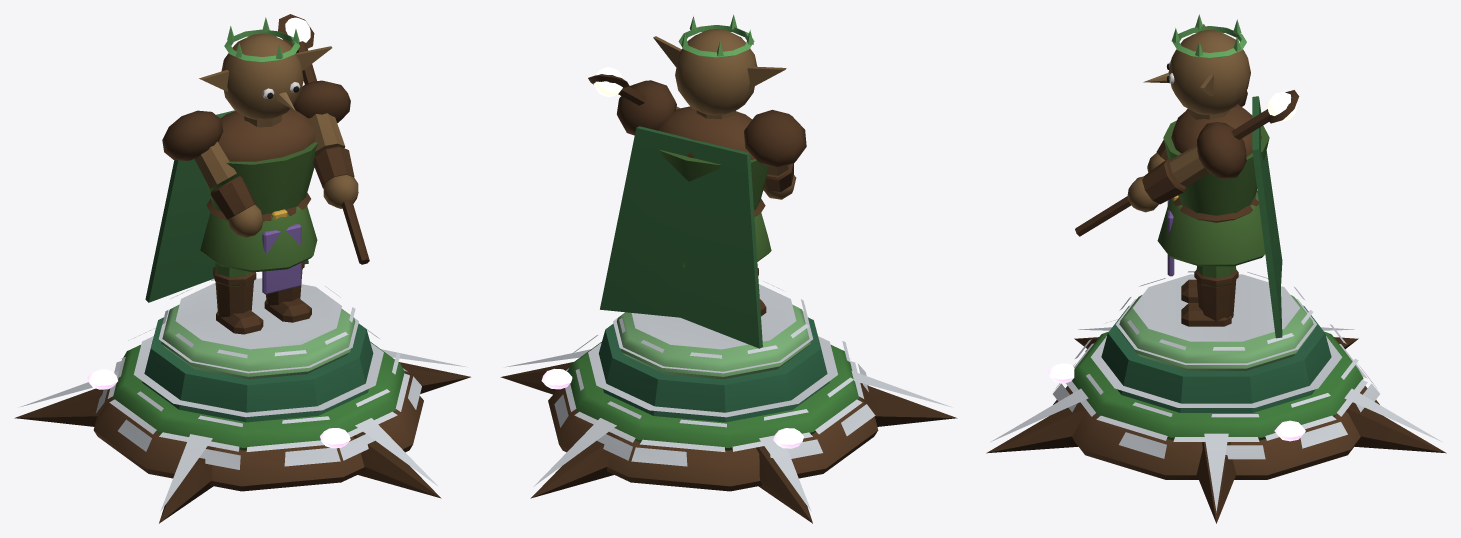
Rendered from sylvestres-7.glb.
The picture shows the model from 3 angles, left to right: view 1: azimuth 30°, elevation 25°; view 2: azimuth 150°, elevation 25°; view 3: azimuth 270°, elevation 25°; orthographic projection.
Parts seen in each view (by area): view 1: sylvestres_7_peint, Buste_peint, Crane_peint, BrasG_peint, BrasD_peint, JambeG_peint, Arme_peint, JambeD_peint, sylvestres_7_lueur; view 2: sylvestres_7_peint, Buste_peint, Crane_peint, BrasG_peint, BrasD_peint, sylvestres_7_lueur, Arme_peint; view 3: sylvestres_7_peint, Buste_peint, Crane_peint, BrasD_peint, JambeD_peint, Arme_peint, sylvestres_7_lueur.
Part boxes in pixels (x1=…): sylvestres_7_peint: x1=14, y1=278, x2=470, y2=523; Buste_peint: x1=145, y1=108, x2=317, y2=302; Crane_peint: x1=199, y1=17, x2=332, y2=120; BrasG_peint: x1=162, y1=110, x2=263, y2=237; BrasD_peint: x1=293, y1=80, x2=358, y2=208; JambeG_peint: x1=213, y1=263, x2=263, y2=334; Arme_peint: x1=278, y1=14, x2=369, y2=264; JambeD_peint: x1=264, y1=261, x2=311, y2=322; sylvestres_7_lueur: x1=87, y1=369, x2=350, y2=448; sylvestres_7_peint: x1=500, y1=281, x2=957, y2=523; Buste_peint: x1=600, y1=106, x2=771, y2=348; Crane_peint: x1=653, y1=14, x2=786, y2=115; BrasG_peint: x1=744, y1=109, x2=806, y2=199; BrasD_peint: x1=617, y1=80, x2=679, y2=135; sylvestres_7_lueur: x1=541, y1=368, x2=803, y2=448; Arme_peint: x1=588, y1=74, x2=645, y2=105; sylvestres_7_peint: x1=986, y1=271, x2=1446, y2=523; Buste_peint: x1=1157, y1=96, x2=1282, y2=338; Crane_peint: x1=1143, y1=14, x2=1250, y2=114; BrasD_peint: x1=1127, y1=122, x2=1246, y2=212; JambeD_peint: x1=1181, y1=266, x2=1238, y2=326; Arme_peint: x1=1075, y1=90, x2=1299, y2=236; sylvestres_7_lueur: x1=1047, y1=363, x2=1305, y2=441.
Bounding box in the file's own units: 0.9692 × 0.9664 × 1.02.
